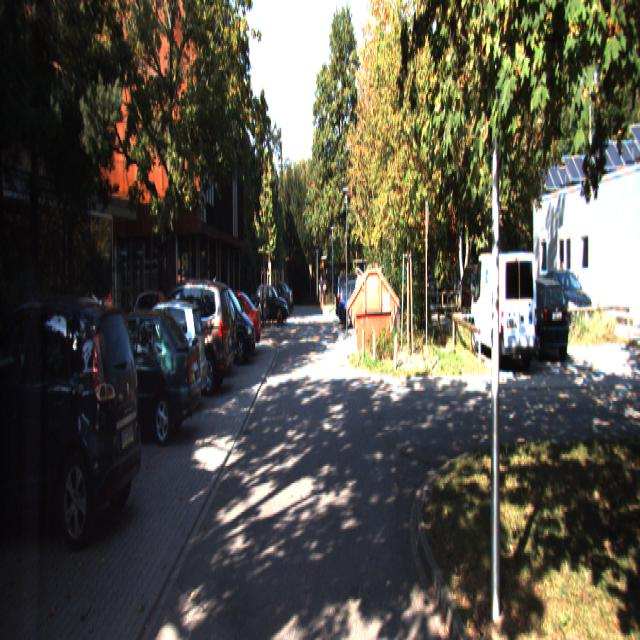Car: (0, 288, 148, 550), (73, 307, 204, 451), (132, 276, 235, 399), (116, 299, 209, 420), (468, 247, 539, 373), (191, 281, 258, 369), (509, 274, 571, 361), (200, 290, 263, 357), (338, 276, 379, 326)
